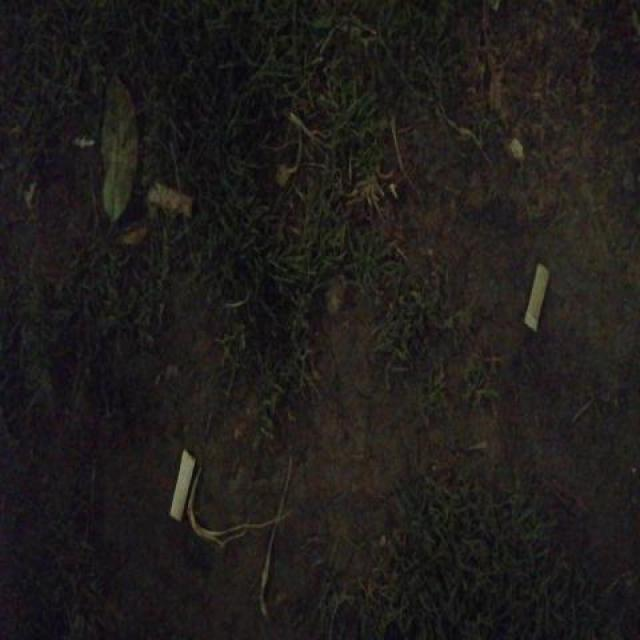non-organic waste: (165, 441, 204, 527), (142, 175, 197, 222), (520, 255, 552, 334)
